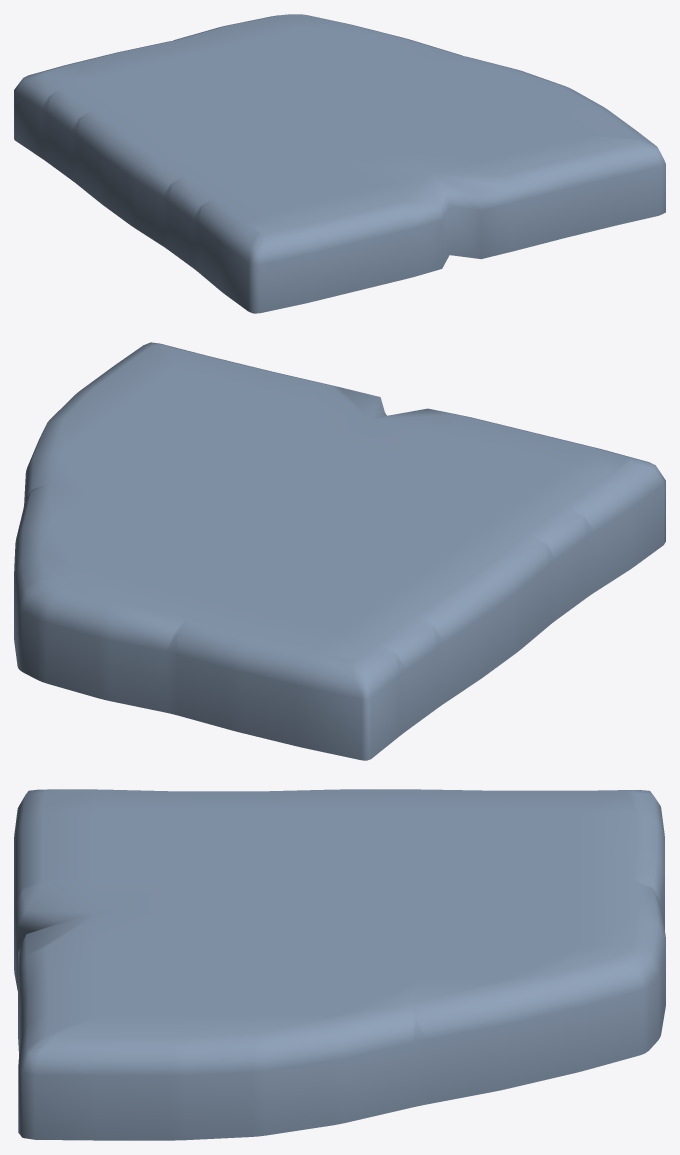
The model's file is ruins-floor-tile-2.fbx.
3 views of the same model, one above another, from view 1: azimuth 30°, elevation 25°; view 2: azimuth 150°, elevation 25°; view 3: azimuth 270°, elevation 25° (orthographic). The views are drawn at different scales.
Parts seen in each view (by area): view 1: Cube; view 2: Cube; view 3: Cube.
Boxes of the visible parts, x1,y1,x2,y2 form: Cube: (14,14,665,313); Cube: (14,342,665,760); Cube: (14,789,665,1140).
Size of the model in its own units: 90.25 by 14.05 by 91.33.
